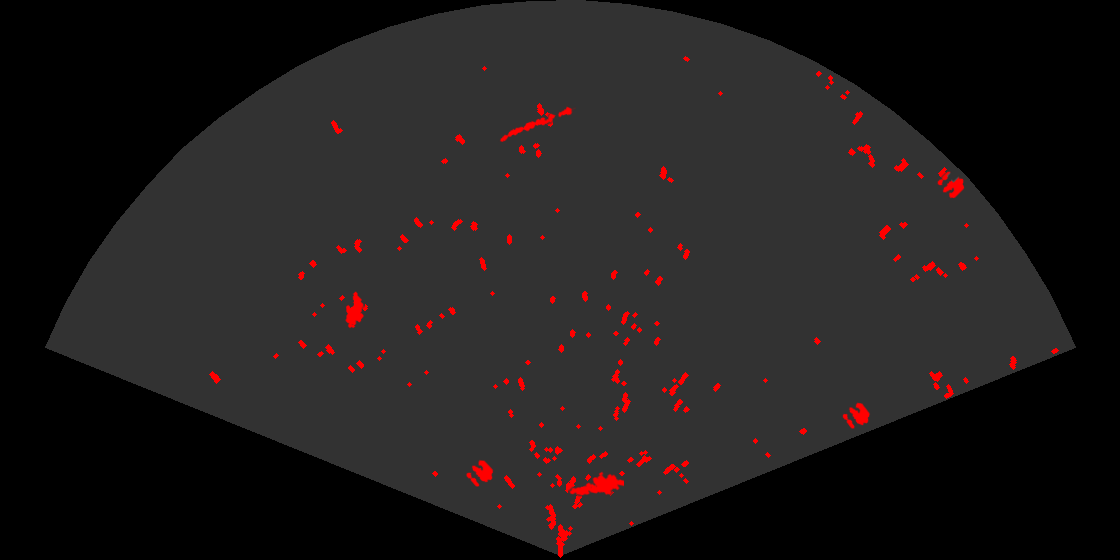AUV: (344, 290, 365, 330)
ball: (936, 170, 966, 200), (465, 458, 495, 488), (841, 401, 872, 430)
chain: (498, 105, 576, 144)
frogman: (568, 470, 624, 497)
